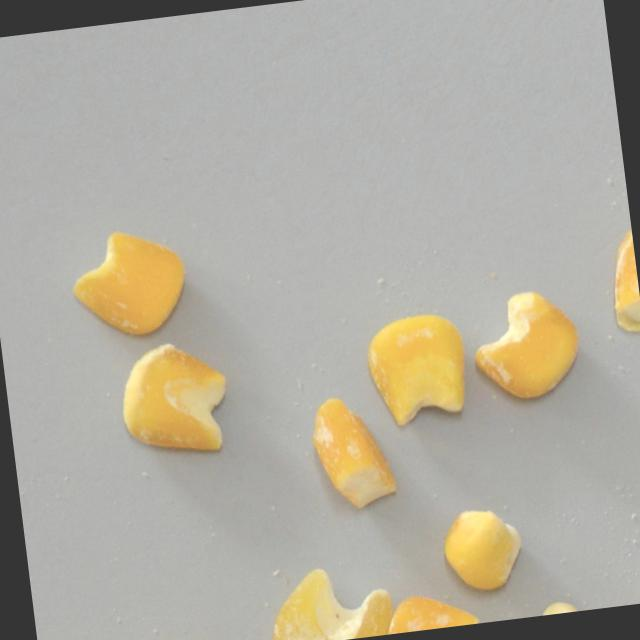dañado: (108, 329, 240, 465), (65, 220, 197, 347), (464, 282, 590, 409), (488, 593, 598, 622), (627, 566, 640, 604)
no_desgerminado: (438, 501, 532, 598)
pelicula: (359, 303, 475, 432), (302, 388, 406, 518), (594, 214, 640, 368), (372, 585, 482, 635)
punto_negro: (261, 553, 398, 640)
